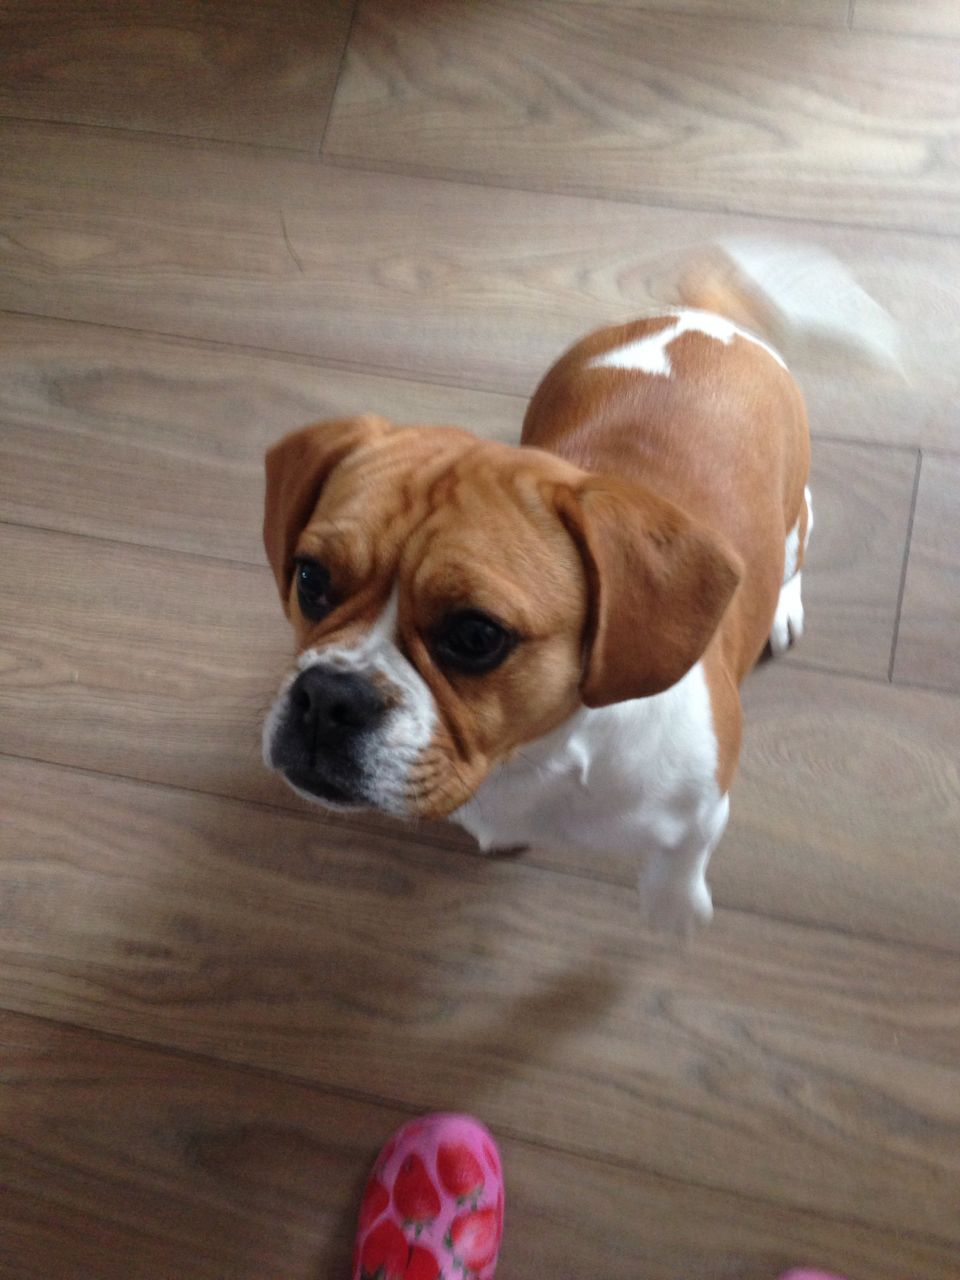dog: (234, 254, 834, 975)
